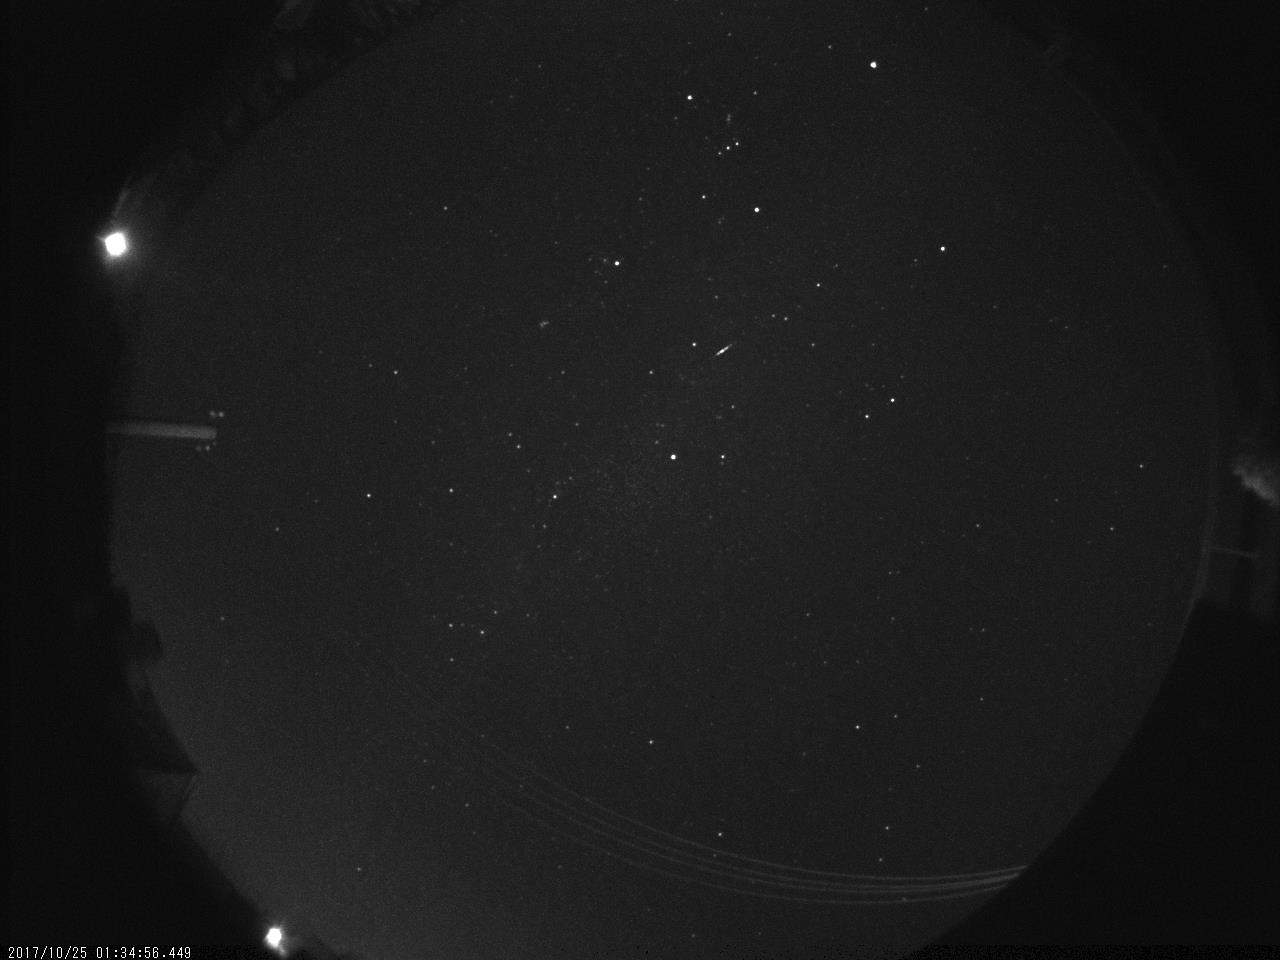meteor: (696, 323, 756, 378)
